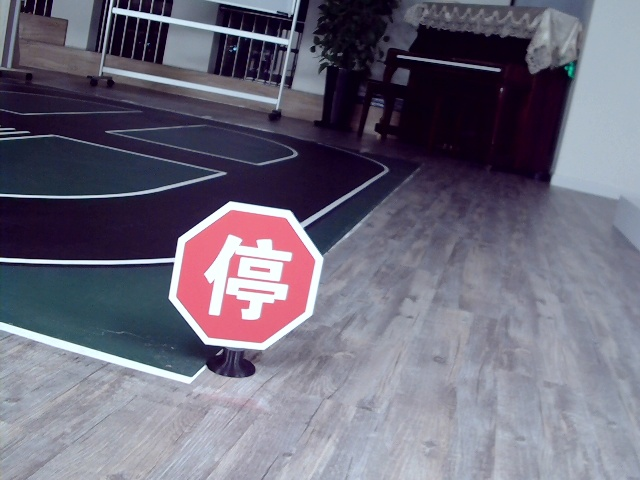stop: (203, 231, 286, 320)
